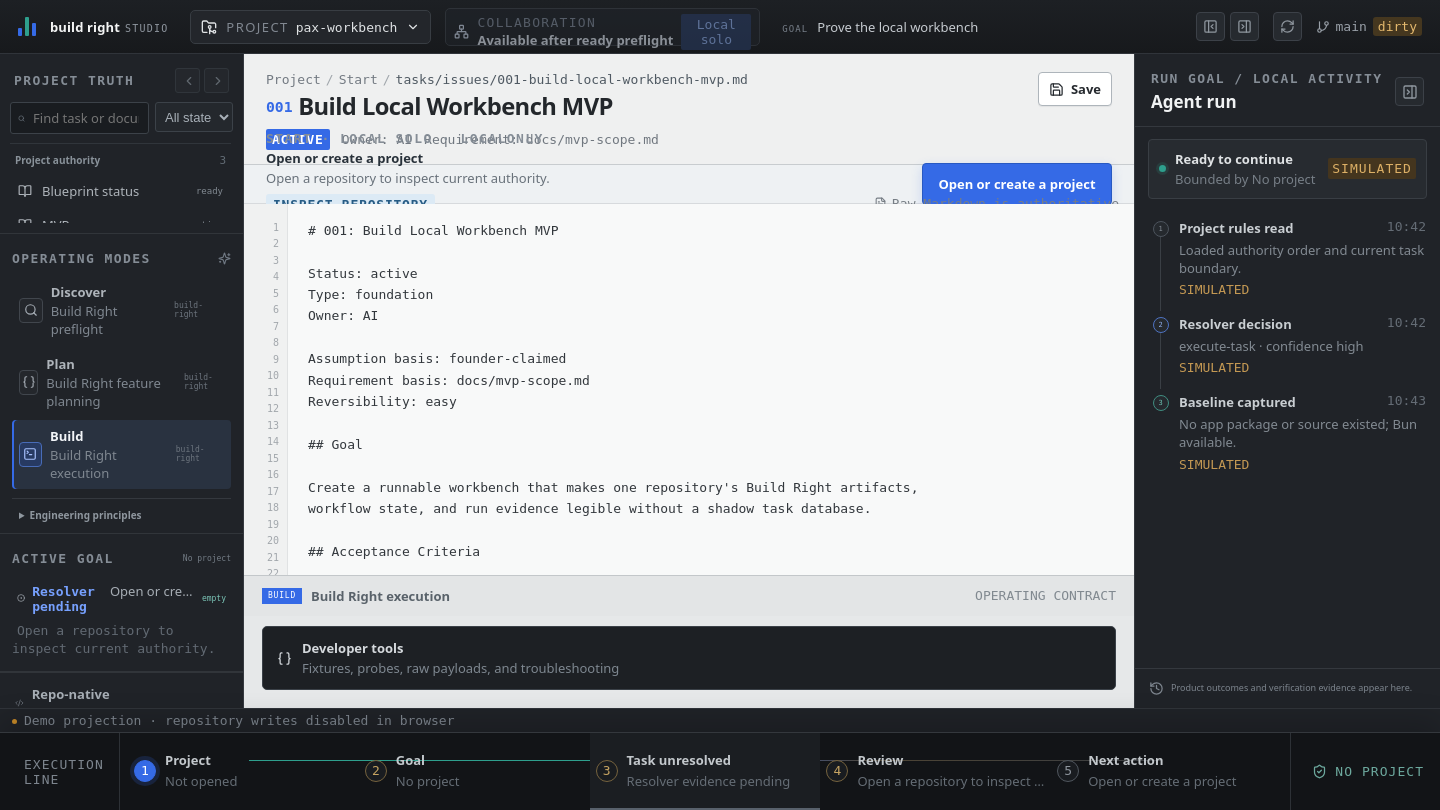
it: Build Right Studio workbench › projects resumable restart truth and requires a fresh two-step confirmation with zero automatic Codex
The image size is (1440, 810).
What coordinates should you click on to do the following:
click the button "Project pax-workbench"
I would click on:
 (311, 26)
Its box is [190,10,432,44].
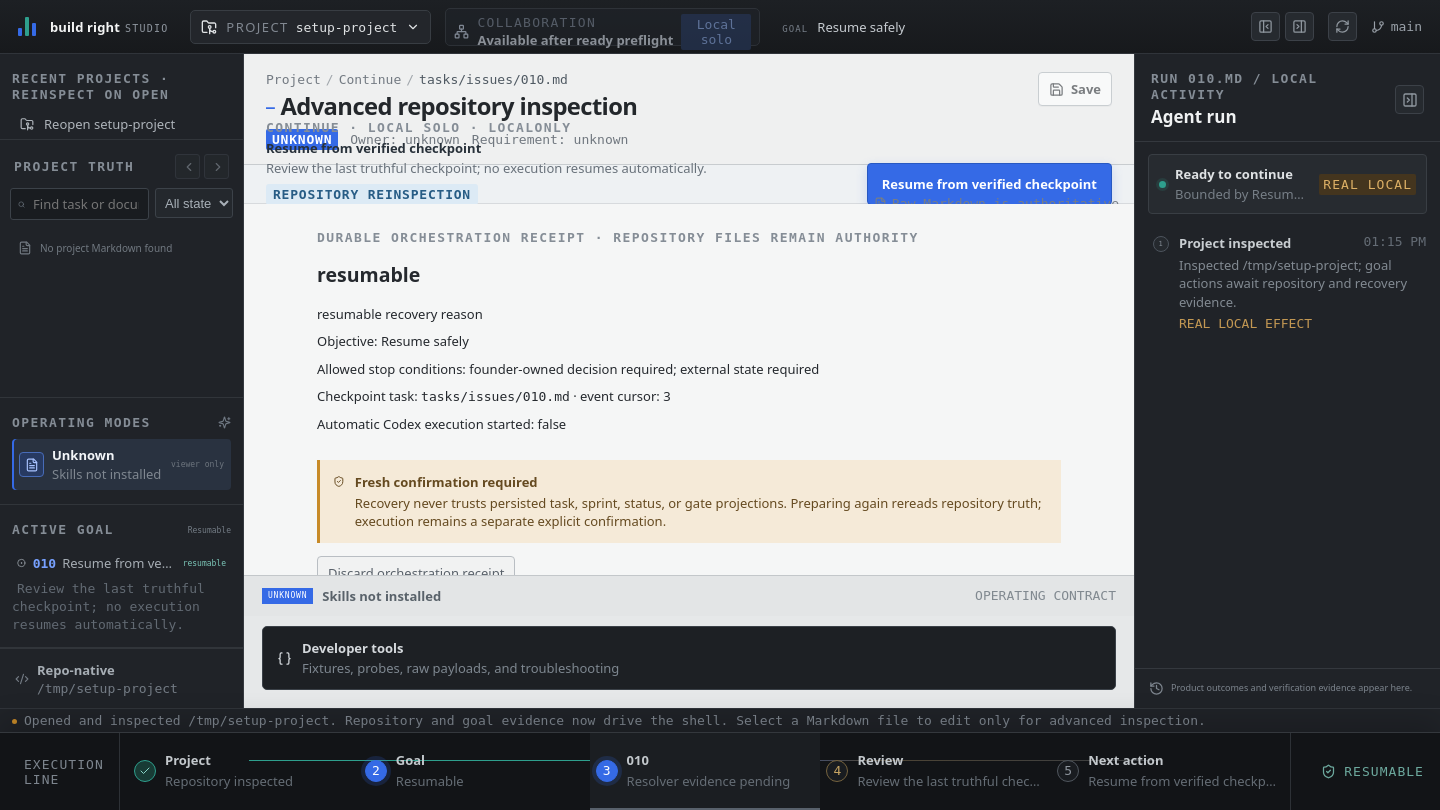
Now the heading "resumable" is shown, box [317,261,420,288]
Now the text "Automatic Codex execution started: false" is shown, box [317,415,566,433]
What coordinates should you click on to do the following:
click the button "Resume from verified checkpoint"
I would click on:
 (989, 184)
Its box is [867,163,1112,205].
(page scrolled)
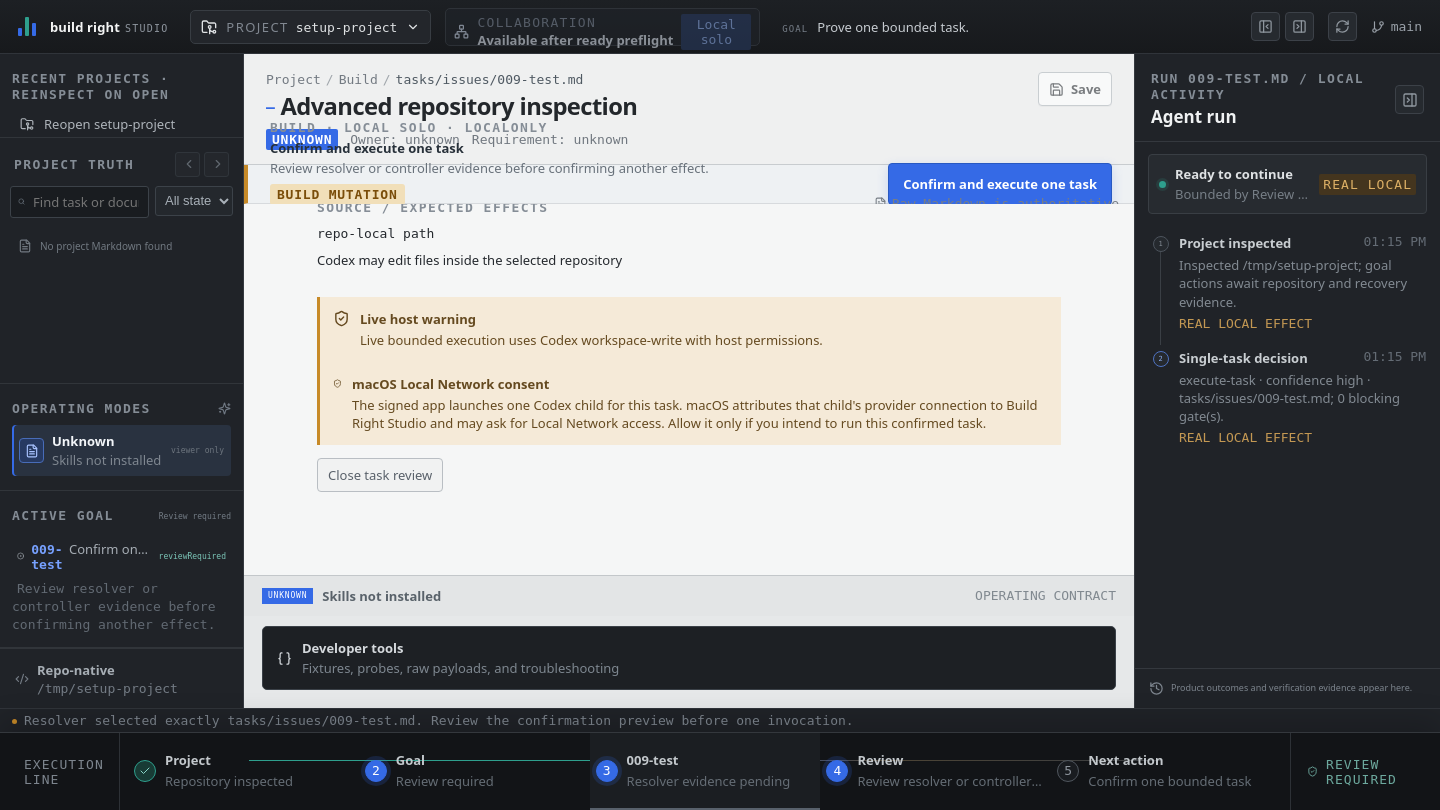
Now the button "Confirm and execute one task" is shown, box [888,163,1112,205]
Now the text "macOS attributes that child's provider connection" is shown, box [352,396,1038,432]
